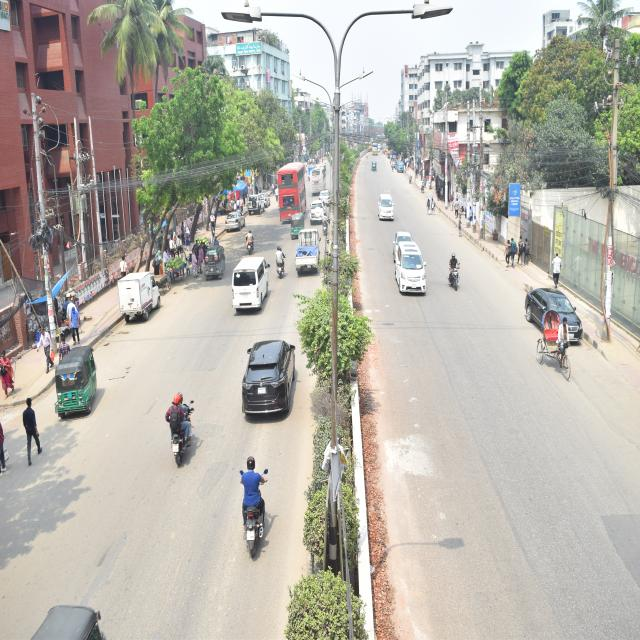bus: (274, 153, 310, 230), (307, 163, 329, 201)
car: (233, 326, 314, 428), (516, 280, 596, 358), (218, 206, 256, 241), (245, 181, 272, 225), (378, 187, 402, 226), (307, 194, 327, 231)
microbus: (222, 249, 277, 321), (389, 236, 428, 305)
motorbike: (160, 382, 230, 491), (230, 453, 295, 543), (442, 237, 465, 307), (269, 237, 290, 294), (233, 226, 259, 257)
pickup-van: (102, 257, 172, 331), (290, 222, 328, 293)
